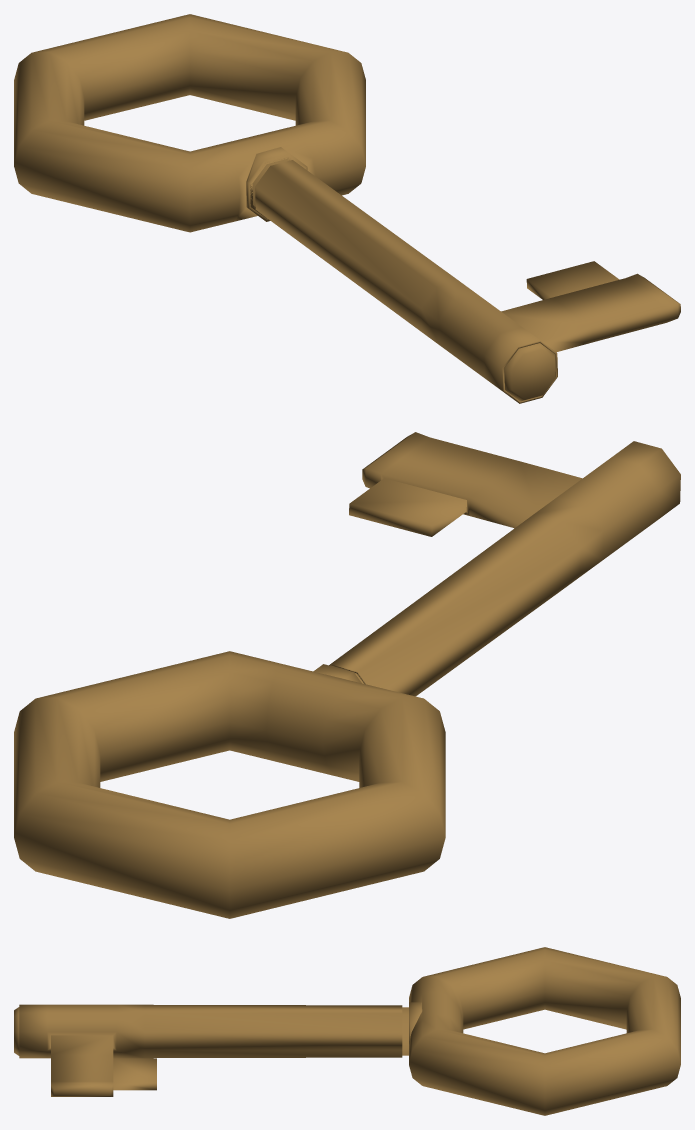
The model's file is KEYv2.fbx.
3 renders of one model, top to bottom at view 1: azimuth 30°, elevation 25°; view 2: azimuth 150°, elevation 25°; view 3: azimuth 270°, elevation 25°, orthographic. The views are drawn at different scales.
Visible parts, largest first — view 1: Circle; view 2: Circle; view 3: Circle.
Boxes of the visible parts, box(x1,y1,x2,y2) form: Circle: box(14, 14, 680, 403); Circle: box(14, 432, 680, 918); Circle: box(14, 947, 680, 1115).
Bounding box in the file's own units: 250 × 50 × 531.
